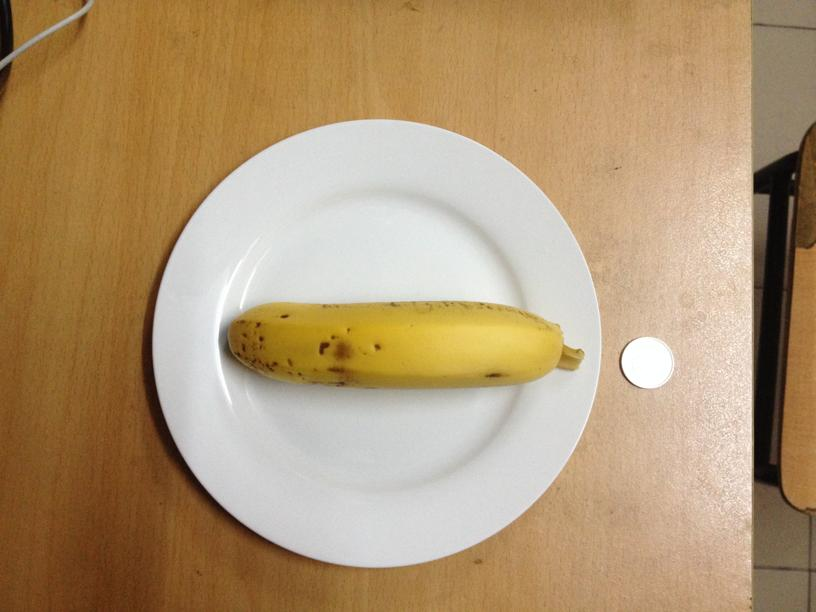banana: (226, 299, 564, 387)
coin: (621, 334, 674, 388)
